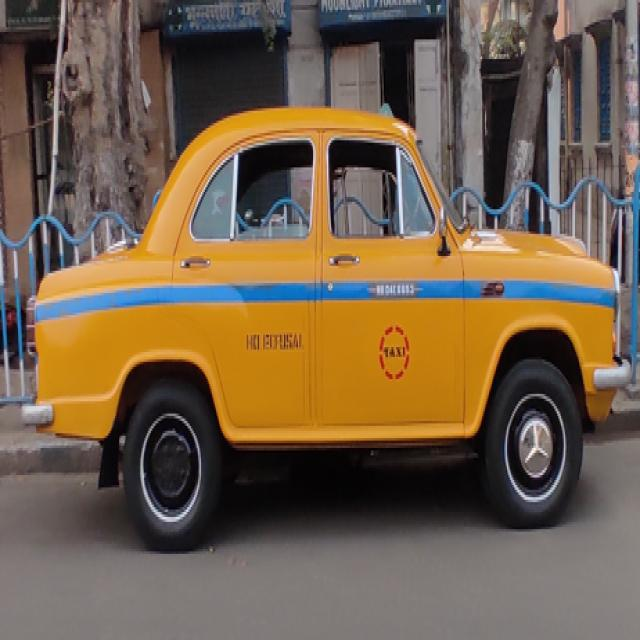ambasador_taxi: (31, 74, 639, 544)
